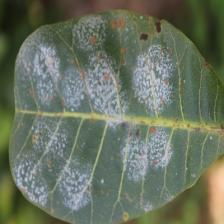red rust: (8, 9, 224, 223)
